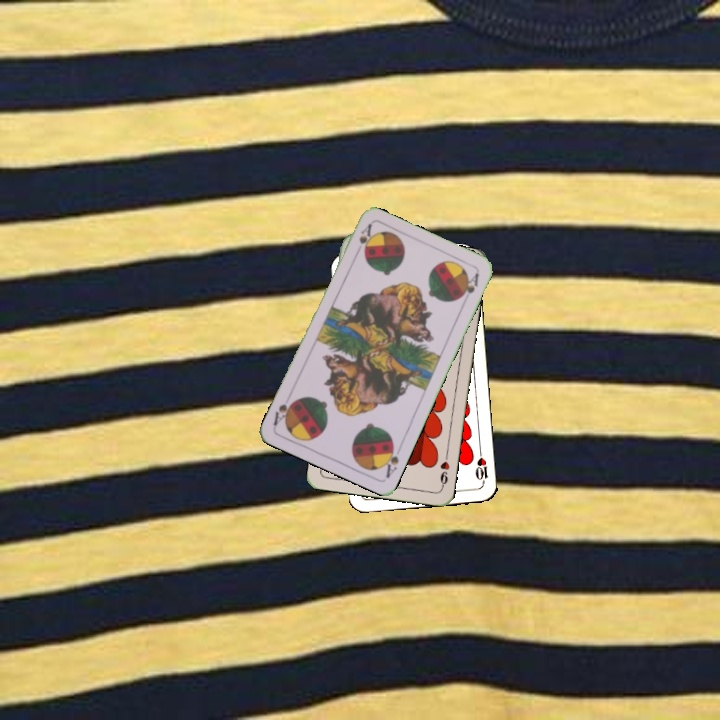H10: (471, 446, 491, 486)
H9: (436, 450, 452, 490)
SA: (378, 439, 401, 480), (351, 220, 374, 259)
